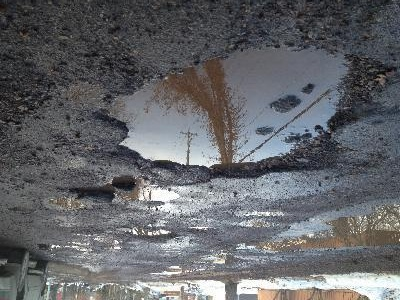pothole: (94, 46, 381, 184), (127, 226, 174, 242), (39, 196, 86, 211), (139, 189, 181, 205)
